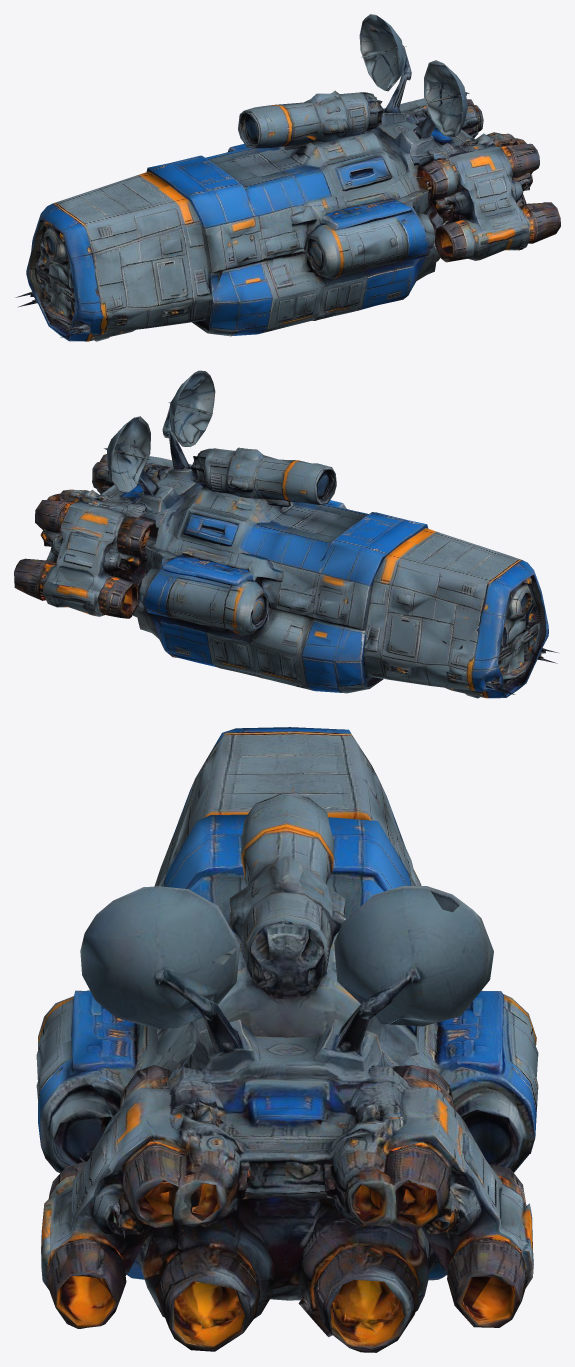
Rendered from Terran_ResearchShipII.glb.
3 views of the same model, one above another, from view 1: azimuth 30°, elevation 25°; view 2: azimuth 150°, elevation 25°; view 3: azimuth 270°, elevation 25° (orthographic). The views are drawn at different scales.
Size of the model in its own units: 1.9 by 0.8687 by 0.8861.
Materials: 1 (1 with a texture image).
